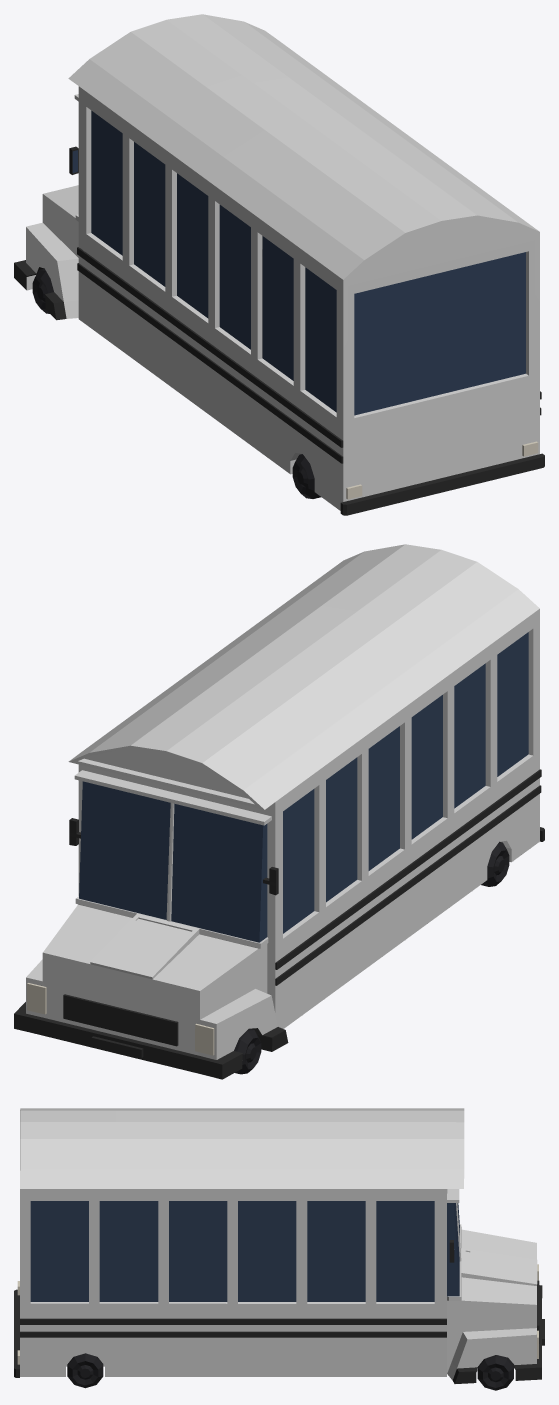
File: schoolbus.glb
The picture shows the model from 3 angles, top to bottom: view 1: azimuth 30°, elevation 25°; view 2: azimuth 150°, elevation 25°; view 3: azimuth 270°, elevation 25°; orthographic projection. The views are drawn at different scales.
Visible parts, largest first — view 1: paint, glass, trim, tyre; view 2: paint, glass, trim, tyre, light; view 3: paint, glass, trim, tyre.
Part boxes in pixels (x1,y1,x2,y2): paint: (26, 14, 539, 510); glass: (72, 110, 525, 415); trim: (14, 146, 544, 515); tyre: (32, 268, 321, 498); paint: (26, 544, 539, 1059); glass: (79, 632, 528, 942); trim: (14, 769, 544, 1079); tyre: (234, 841, 509, 1074); light: (27, 983, 214, 1055); paint: (20, 1108, 537, 1379); glass: (30, 1201, 459, 1301); trim: (14, 1240, 544, 1383); tyre: (67, 1353, 513, 1390).
Size of the model in its own units: 3.26 by 3.81 by 8.
